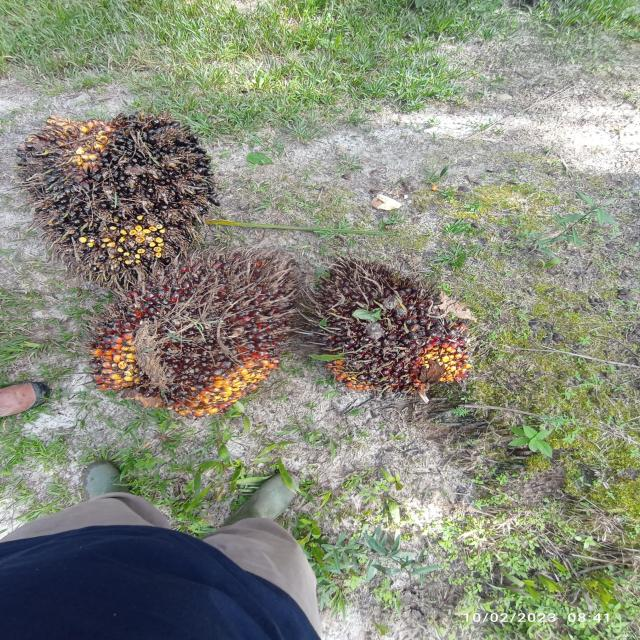fraksi 00: (12, 94, 251, 284), (277, 223, 519, 401)
fraksi 1: (92, 249, 296, 445)
